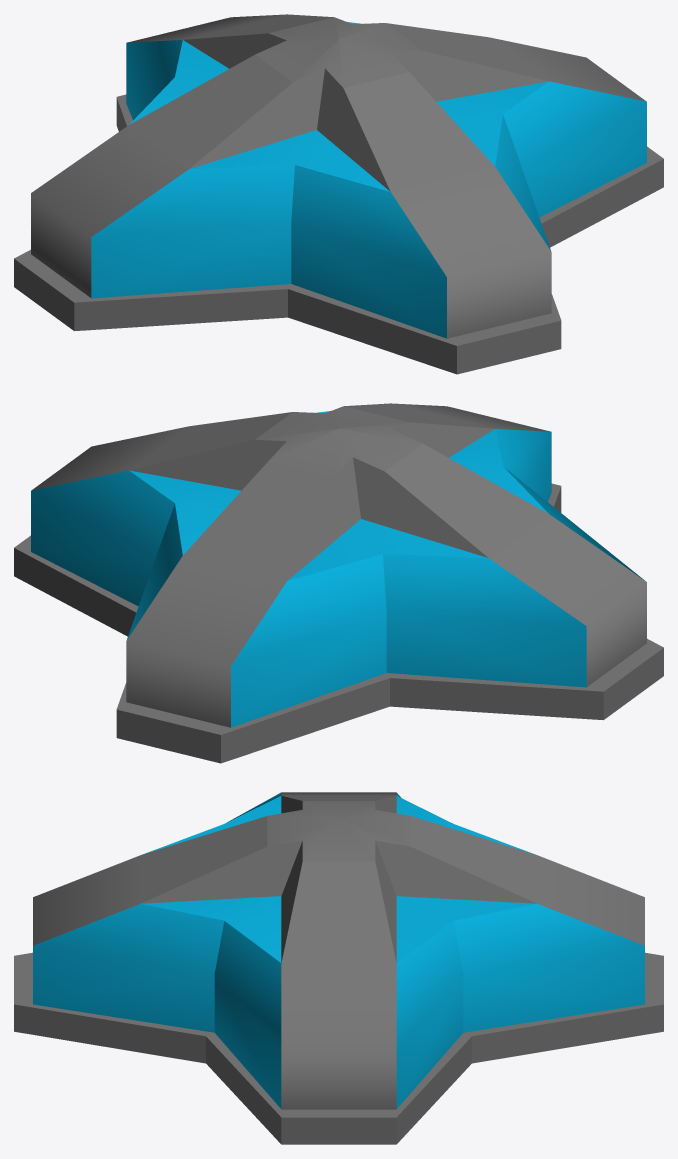
The model's file is _1Ship_PIece7.fbx.
3 views of the same model, one above another, from view 1: azimuth 30°, elevation 25°; view 2: azimuth 150°, elevation 25°; view 3: azimuth 270°, elevation 25° (orthographic). The views are drawn at different scales.
Visible parts, largest first — view 1: Ship_PIece7; view 2: Ship_PIece7; view 3: Ship_PIece7.
Part boxes in pixels (<box>): Ship_PIece7: <box>14,14,663,374</box>; Ship_PIece7: <box>14,403,663,763</box>; Ship_PIece7: <box>14,792,663,1144</box>.
Bounding box in the file's own units: 567 × 182 × 567.
